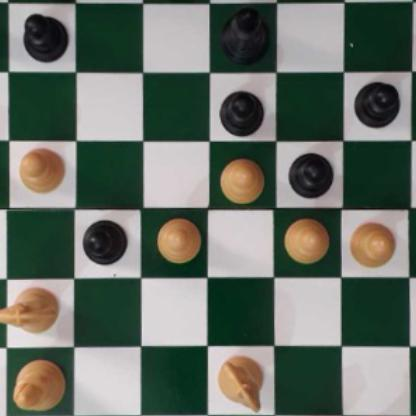black-bishop: (222, 4, 269, 64)
black-pawn: (218, 85, 266, 135), (21, 9, 66, 62), (353, 78, 400, 128), (288, 149, 333, 198), (83, 216, 128, 264)
white-bishop: (12, 357, 67, 412)
white-knight: (216, 353, 267, 412), (0, 287, 62, 333)
white-pawn: (349, 218, 397, 269), (215, 156, 266, 202), (18, 146, 66, 194), (283, 216, 329, 264), (156, 218, 201, 263)
